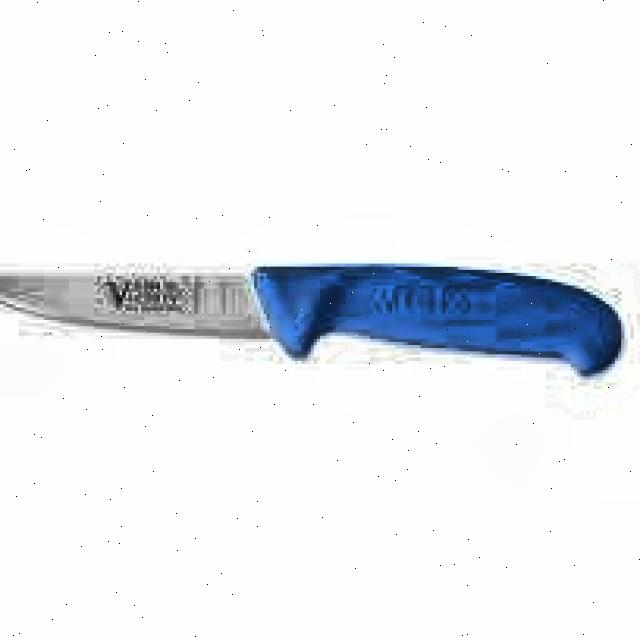knife: (0, 263, 624, 373)
